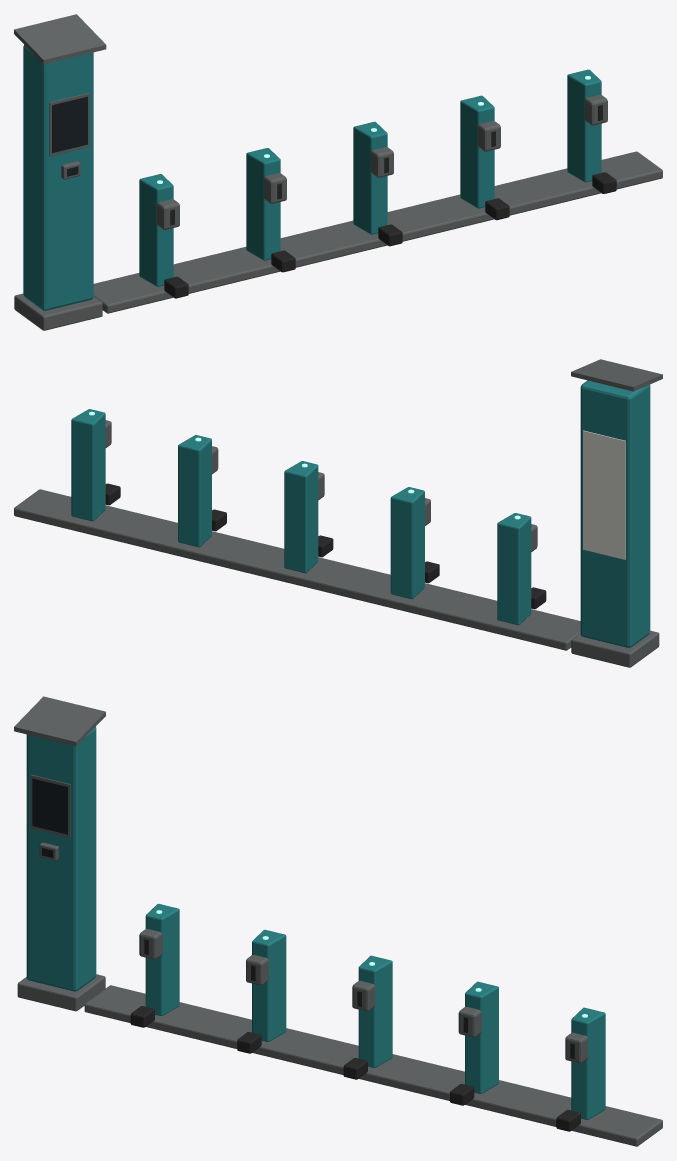
Rendered from city-bike-share-dock.glb.
3 renders of one model, top to bottom at view 1: azimuth 30°, elevation 25°; view 2: azimuth 150°, elevation 25°; view 3: azimuth 330°, elevation 25°, orthographic.
Visible parts, largest first — view 1: Assembly | Deep teal powder coat, Assembly | Graphite steel, Assembly | Black bumper rubber, Assembly | Dark display glass; view 2: Assembly | Deep teal powder coat, Assembly | Graphite steel, Assembly | Blank panel off-white, Assembly | Black bumper rubber; view 3: Assembly | Deep teal powder coat, Assembly | Graphite steel, Assembly | Black bumper rubber, Assembly | Dark display glass.
Part boxes in pixels (x1=…): Assembly | Deep teal powder coat: x1=23, y1=45, x2=601, y2=310; Assembly | Graphite steel: x1=14, y1=14, x2=662, y2=330; Assembly | Black bumper rubber: x1=164, y1=105, x2=616, y2=298; Assembly | Dark display glass: x1=52, y1=96, x2=87, y2=176; Assembly | Deep teal powder coat: x1=71, y1=380, x2=650, y2=647; Assembly | Graphite steel: x1=14, y1=359, x2=662, y2=667; Assembly | Blank panel off-white: x1=583, y1=430, x2=625, y2=559; Assembly | Black bumper rubber: x1=105, y1=483, x2=546, y2=609; Assembly | Deep teal powder coat: x1=26, y1=727, x2=605, y2=1119; Assembly | Graphite steel: x1=14, y1=696, x2=662, y2=1146; Assembly | Black bumper rubber: x1=130, y1=939, x2=580, y2=1131; Assembly | Dark display glass: x1=32, y1=778, x2=67, y2=857.
Size of the model in its own units: 4.37 by 1.89 by 0.47.
